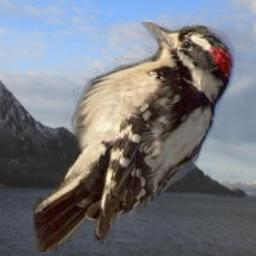Woodpecker: (33, 22, 235, 252)
